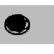correct: (3, 13, 32, 36)
